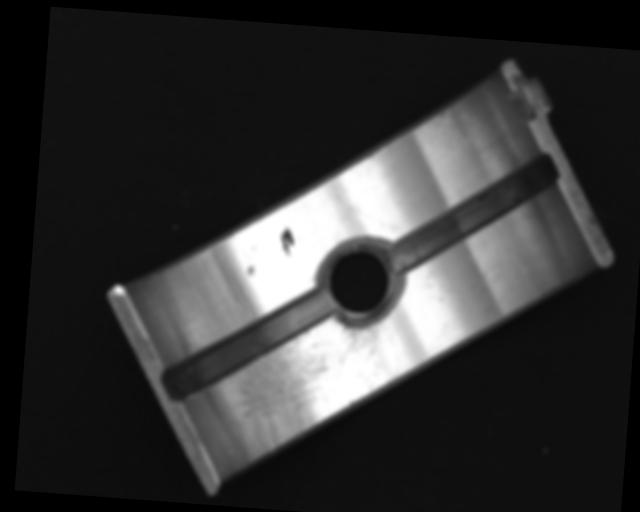blot: (279, 227, 296, 257)
bruise: (246, 264, 255, 277)
gap: (383, 143, 561, 283), (158, 282, 329, 411)
hole: (316, 237, 408, 326)
scratch: (222, 308, 385, 471)
